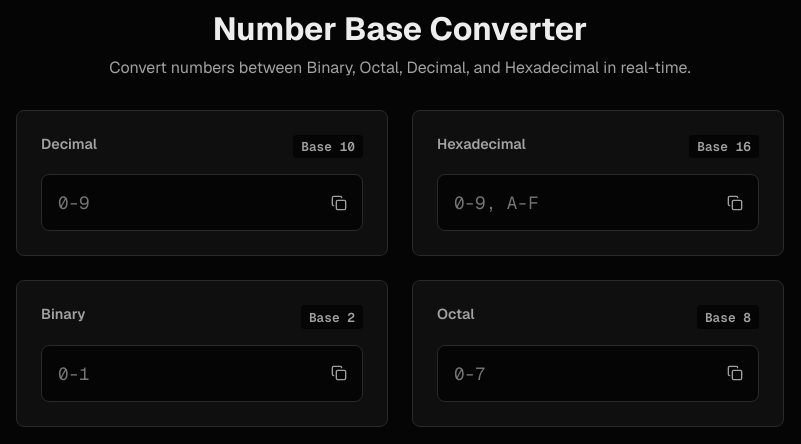
Test case: NumberBaseTool › converts Decimal to other bases
This screenshot has width=801, height=444.
Type "10" into the field with placeholder "0-9" at {"x": 202, "y": 203}, box [41,174,363,231]
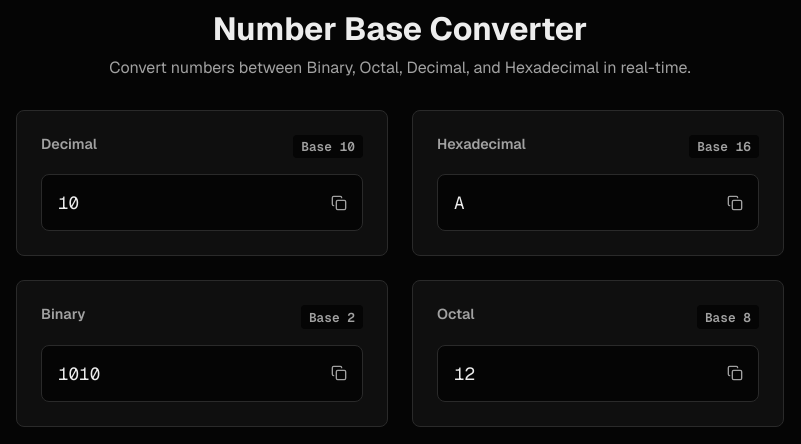
expect the field with placeholder "0-1" below "Base 2" holds "1010": met, box [41,345,363,402]
expect the field with placeholder "0-7" below "Base 8" holds "12": met, box [437,345,759,402]
expect the field with placeholder "0-9, A-F" below "Base 16" holds "A": met, box [437,174,759,231]
